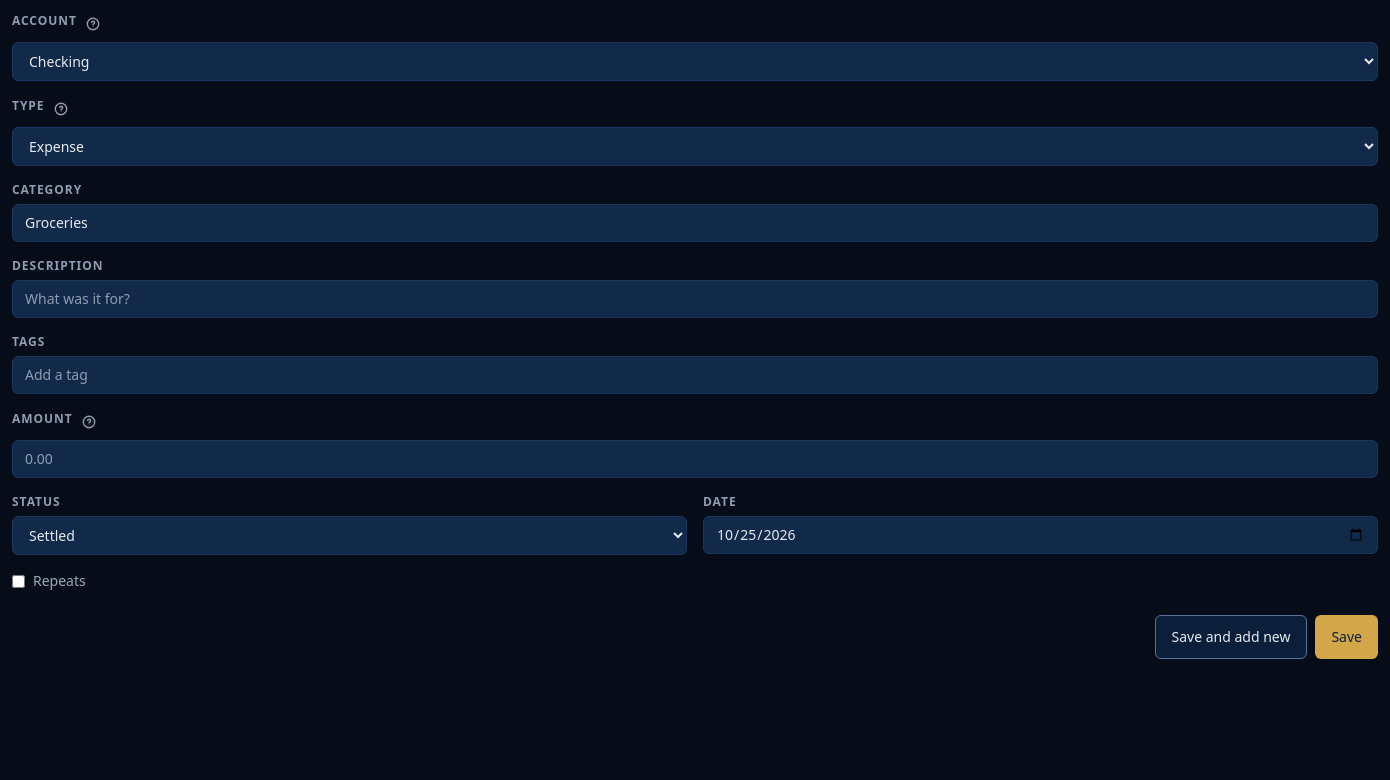
Test: TransactionForm › expected settlement date (pending parity with #197) › renders the expected settlement date input when status flips to pending
Select "Pending" in the dropdown labelled "Status" at (350,536), box [12, 516, 687, 555]
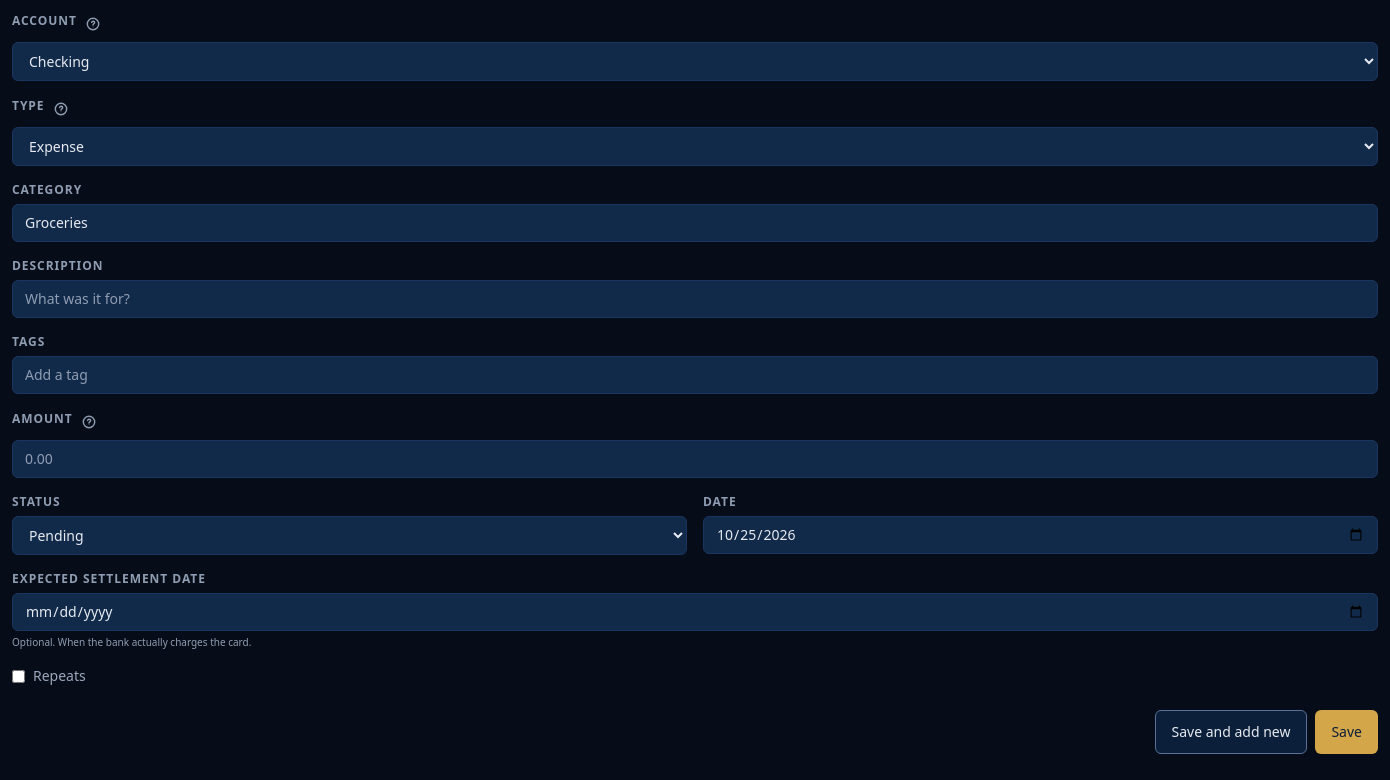
Now the date field labelled "Expected settlement date" is shown, box [12, 593, 1378, 631]
